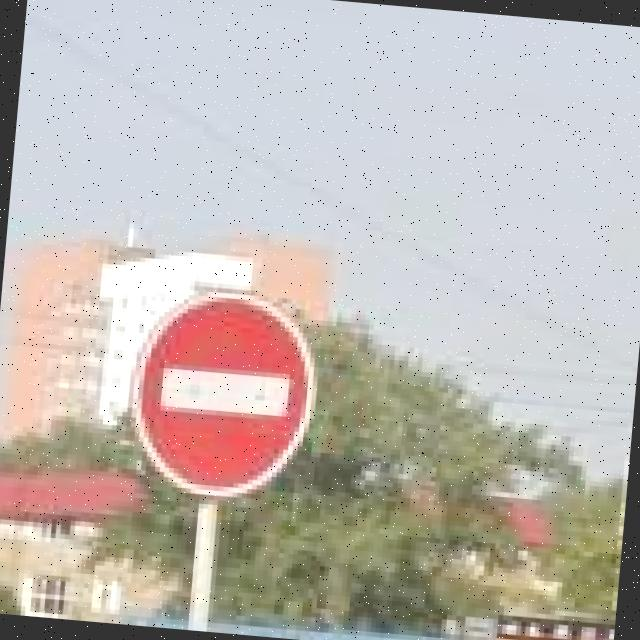Ustap pierwszenstwa: (120, 281, 324, 508)
